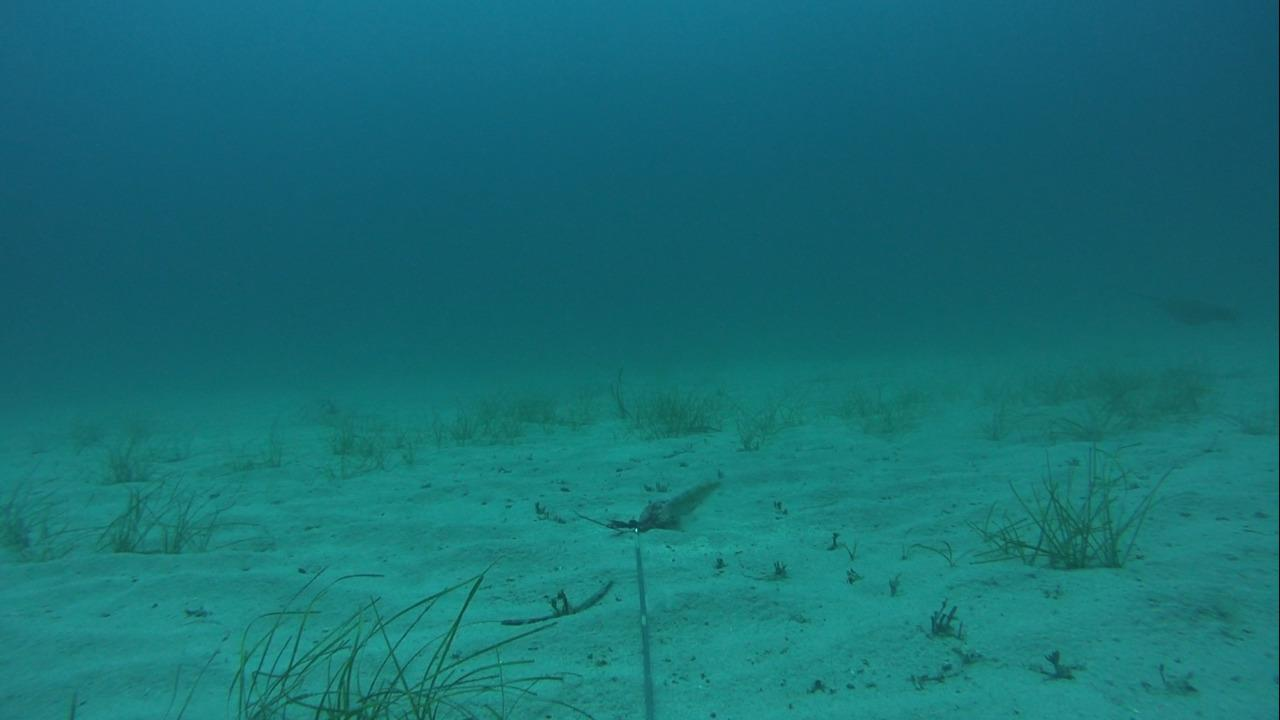myliobatis: (1114, 282, 1240, 336)
raor: (652, 472, 728, 533)
